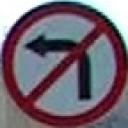NoVirarEsquerda: (1, 2, 127, 126)
